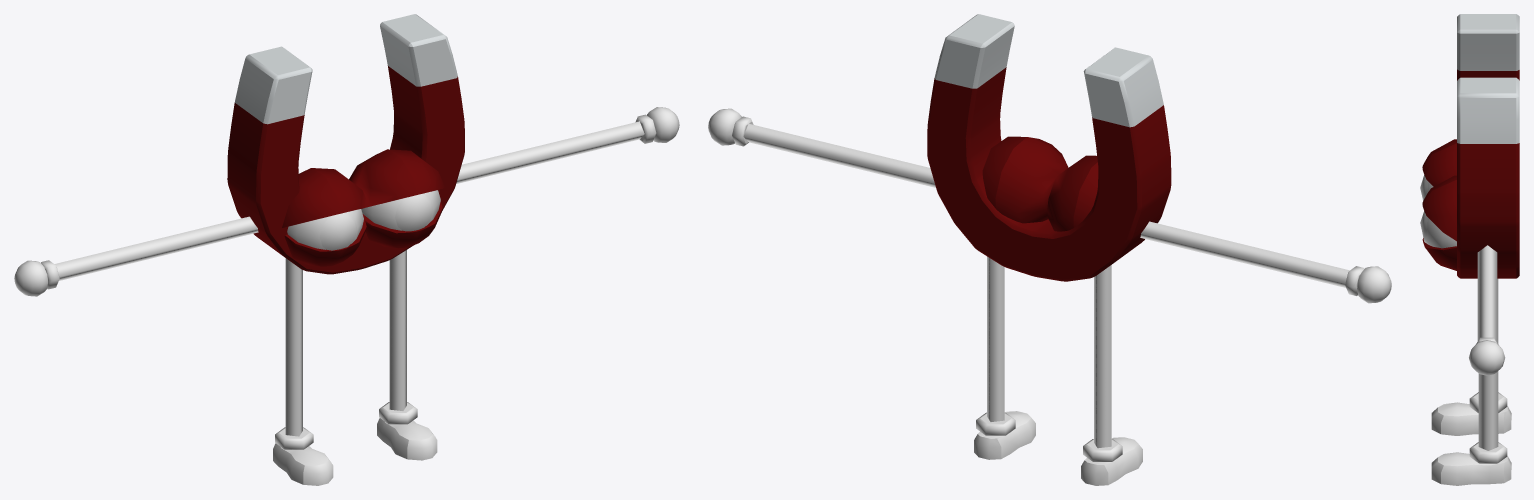
File: iman preparando.FBX
3 views of the same model, side by side, from view 1: azimuth 30°, elevation 25°; view 2: azimuth 150°, elevation 25°; view 3: azimuth 270°, elevation 25° (orthographic). The views are drawn at different scales.
Parts seen in each view (by area): view 1: Cuerpo Iman, ParpadosSup, pierna derecha, pierna izquierda, brazo derecho, brazo izquierdo, ParpadosInf, pupila izquierda, Pupilas, ojo derecho, ojo izquierdo; view 2: Cuerpo Iman, ParpadosSup, pierna derecha, brazo derecho, pierna izquierda, brazo izquierdo; view 3: Cuerpo Iman, pierna izquierda, brazo izquierdo, ParpadosSup, pierna derecha, ParpadosInf, ojo izquierdo, pupila izquierda, Pupilas.
Boxes of the visible parts, <box> form: Cuerpo Iman: <box>227,14,464,274</box>; ParpadosSup: <box>282,149,445,227</box>; pierna derecha: <box>273,258,333,485</box>; pierna izquierda: <box>377,250,437,460</box>; brazo derecho: <box>14,216,258,296</box>; brazo izquierdo: <box>456,107,679,183</box>; ParpadosInf: <box>284,201,442,266</box>; pupila izquierda: <box>395,194,432,231</box>; Pupilas: <box>319,213,356,250</box>; ojo derecho: <box>287,209,363,249</box>; ojo izquierdo: <box>361,190,440,230</box>; Cuerpo Iman: <box>927,14,1171,281</box>; ParpadosSup: <box>982,136,1098,231</box>; pierna derecha: <box>1081,265,1142,485</box>; brazo derecho: <box>1140,221,1391,303</box>; pierna izquierda: <box>974,256,1035,459</box>; brazo izquierdo: <box>708,108,935,187</box>; Cuerpo Iman: <box>1457,14,1519,278</box>; pierna izquierda: <box>1431,278,1511,485</box>; brazo izquierdo: <box>1469,245,1505,375</box>; ParpadosSup: <box>1422,139,1456,241</box>; pierna derecha: <box>1431,392,1511,435</box>; ParpadosInf: <box>1422,238,1456,270</box>; ojo izquierdo: <box>1426,217,1456,248</box>; pupila izquierda: <box>1420,211,1427,243</box>; Pupilas: <box>1420,175,1428,200</box>.
Bounding box in the file's own units: 30.54 × 17.95 × 4.07.
